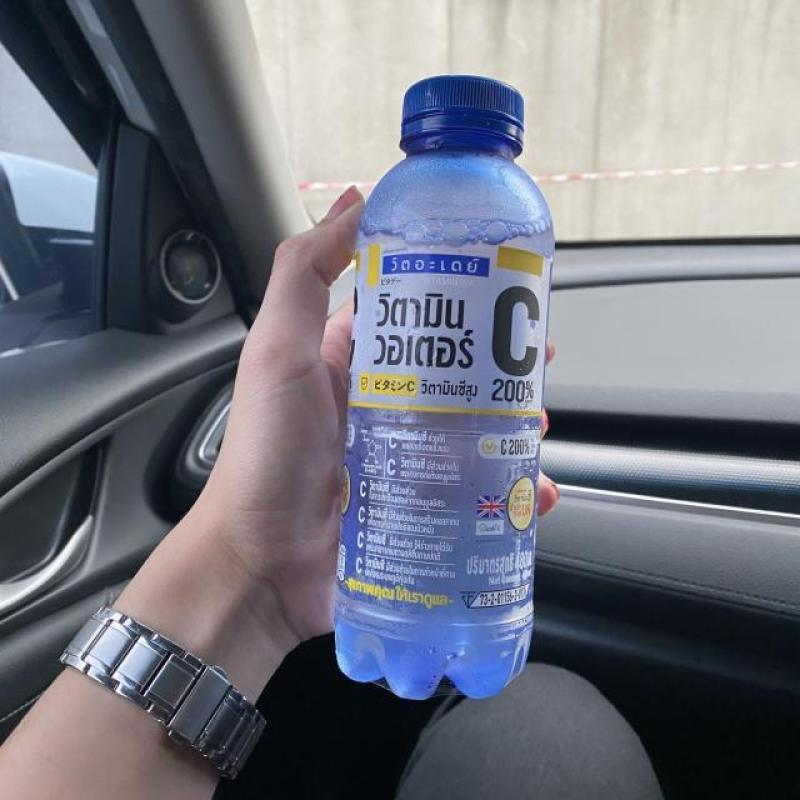botella: (334, 75, 554, 700)
